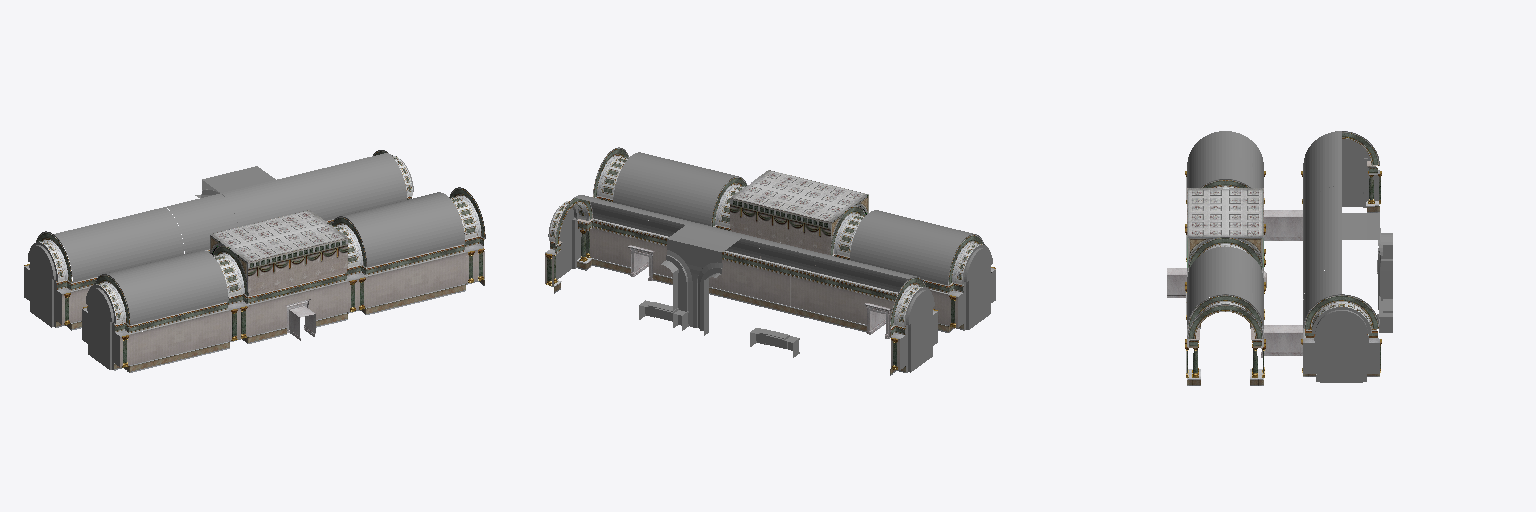
3 renders of one model, left to right at view 1: azimuth 30°, elevation 25°; view 2: azimuth 150°, elevation 25°; view 3: azimuth 270°, elevation 25°, orthographic.
Parts seen in each view (by area): view 1: Box010, Gang_Dach_Ecke002, Gang_Wand_T�re_004, Gang_Dach_Bogen_Var008, Gang_Dach_Bogen_Var007, Gang_Dach_Bogen_Var006, Gang_Dach_Bogen_Var003, Gang_Dach_Bogen_Var005, Gang_Wand_Standart066, Gang_Wand_Standart067, Gang_Wand_Standart065, Gang_Wand_Standart068 (+12 smaller); view 2: Box010, Gang_Wand_T�re_008, Gang_Dach_Ecke003, Box009, Gang_Cap_Bogen002, Gang_Cap_Bogen003, Gang_Dach_Ecke002, Gang_Endst�ck_Var011, Gang_Cap_Bogen001, Gang_Dach_Bogen_Var007, Gang_Endst�ck_Var013, Gang_Endst�ck_Var012 (+13 smaller); view 3: Box010, Gang_Cap_Bogen001, Gang_Dach_Ecke002, Gang_Endst�ck071, Gang_Dach_Ecke003, Box009, Gang_Cap_Bogen002, Gang_Endst�ck_Var011, Gang_Dach_Bogen_Var008, Gang_Dach_Bogen_Var007, Gang_Dach_Bogen_Var003, Gang_Dach_Bogen_Var004 (+9 smaller).
Part boxes in pixels (x1,y1,x2,y2): Box010: (105,192,464,324); Gang_Dach_Ecke002: (230,224,347,295); Gang_Wand_T�re_004: (248,273,347,343); Gang_Dach_Bogen_Var008: (54,220,128,282); Gang_Dach_Bogen_Var007: (332,153,406,212); Gang_Dach_Bogen_Var006: (110,207,183,267); Gang_Dach_Bogen_Var003: (277,166,350,220); Gang_Dach_Bogen_Var005: (166,193,237,253); Gang_Wand_Standart066: (129,314,179,372); Gang_Wand_Standart067: (415,244,466,302); Gang_Wand_Standart065: (178,302,229,360); Gang_Wand_Standart068: (366,256,415,314); Box010: (613,152,984,284); Gang_Wand_T�re_008: (592,218,897,337); Gang_Dach_Ecke003: (730,184,847,254); Box009: (661,225,740,335); Gang_Cap_Bogen002: (900,287,937,372); Gang_Cap_Bogen003: (958,245,995,330); Gang_Dach_Ecke002: (751,170,868,214); Gang_Endst�ck_Var011: (545,198,592,293); Gang_Cap_Bogen001: (548,204,581,279); Gang_Dach_Bogen_Var007: (574,195,649,231); Gang_Endst�ck_Var013: (948,234,995,332); Gang_Endst�ck_Var012: (890,277,937,375); Box010: (1187,131,1263,325); Gang_Cap_Bogen001: (1303,307,1379,382); Gang_Dach_Ecke002: (1187,188,1225,267); Gang_Endst�ck071: (1187,294,1263,385); Gang_Dach_Ecke003: (1226,188,1263,267); Box009: (1342,213,1392,309); Gang_Cap_Bogen002: (1317,139,1378,207); Gang_Endst�ck_Var011: (1303,294,1379,376); Gang_Dach_Bogen_Var008: (1303,131,1341,190); Gang_Dach_Bogen_Var007: (1303,267,1341,327); Gang_Dach_Bogen_Var003: (1303,240,1341,298); Gang_Dach_Bogen_Var004: (1303,213,1341,271).
Size of the model in its own units: 45.71 by 9.75 by 24.16.
Materials: 7 (4 with a texture image).